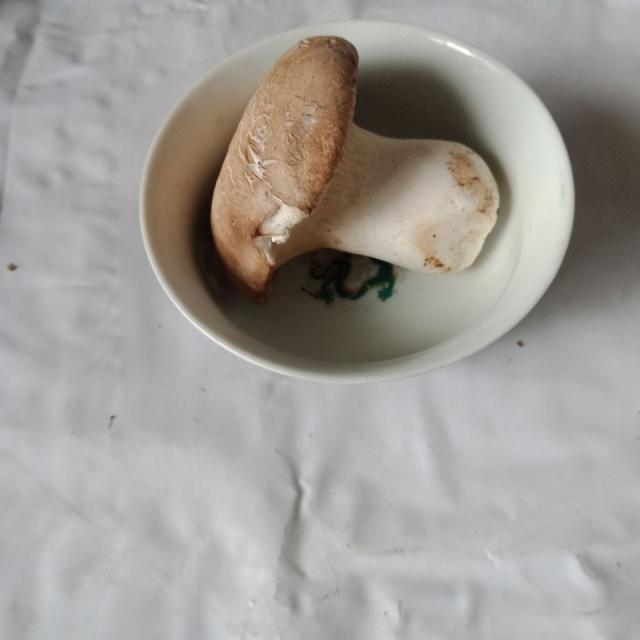Pleurotus cystidiosus: (207, 36, 500, 299)
